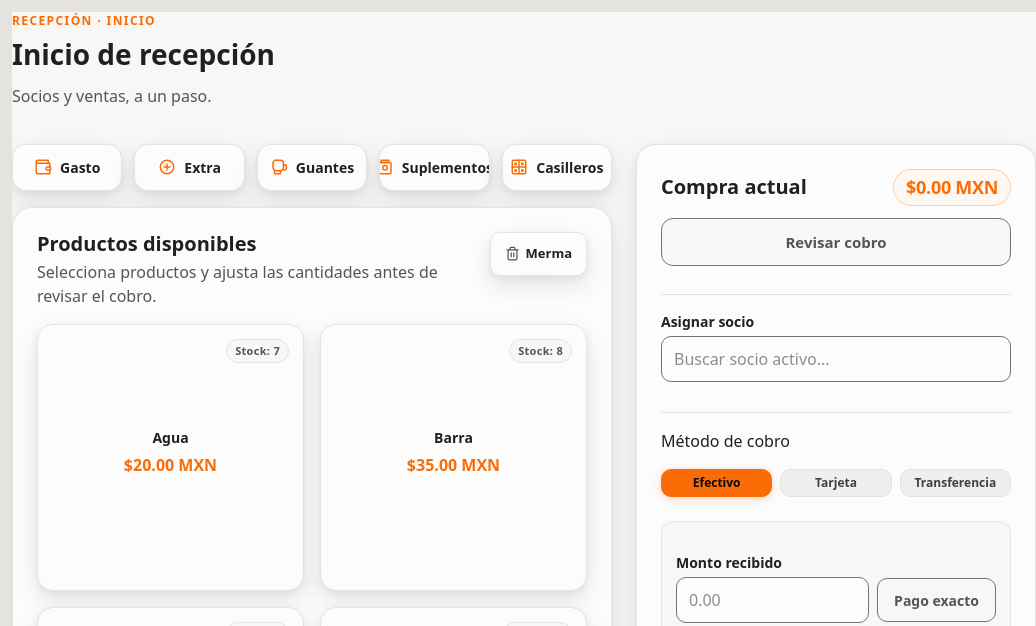
it: Reception Home overview › retains pending transfers and prevents duplicate recording on repeat confirmation
Click the button with aria-label "Seleccionar Agua" at (170, 453), box [52, 363, 289, 544]
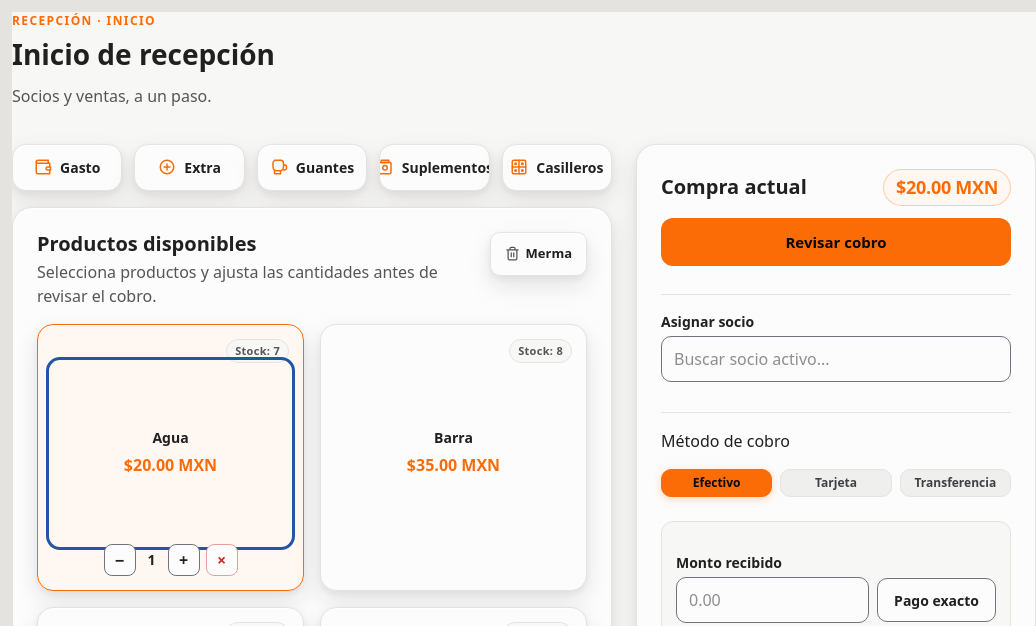
Click the radio button labelled "Transferencia" at (955, 483), box [900, 461, 1011, 505]
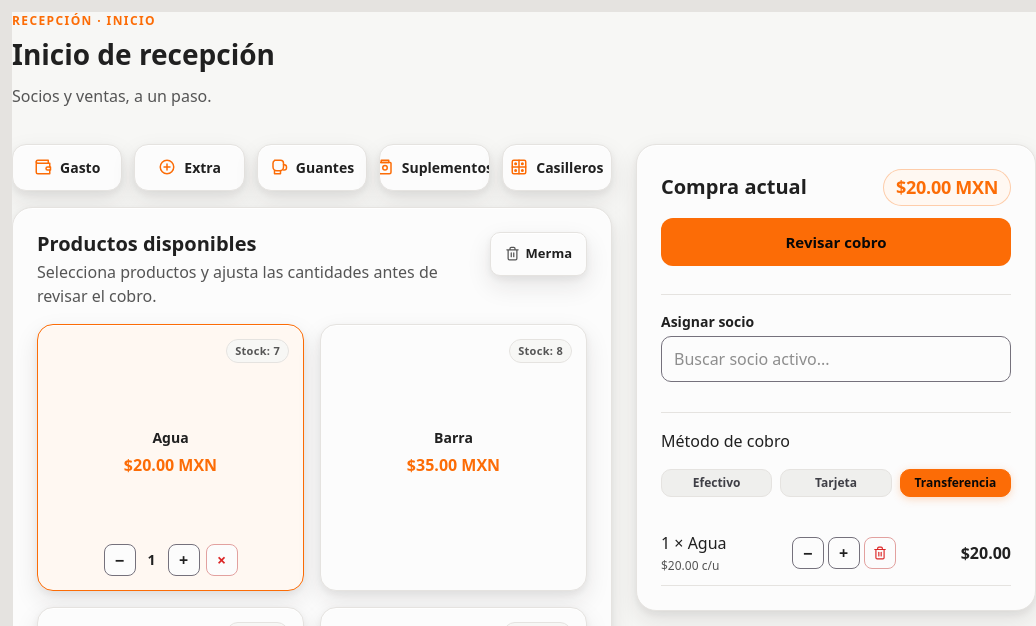
Click the button "Revisar cobro" at (836, 242), box [661, 218, 1011, 266]
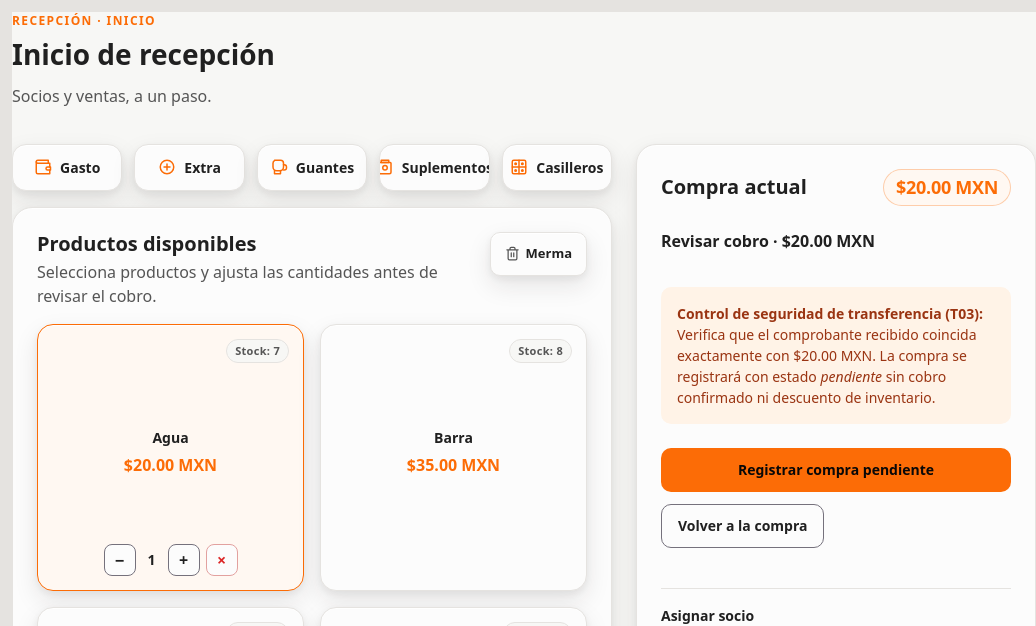
Click the button "Registrar compra pendiente" at (836, 470), box [661, 448, 1011, 492]
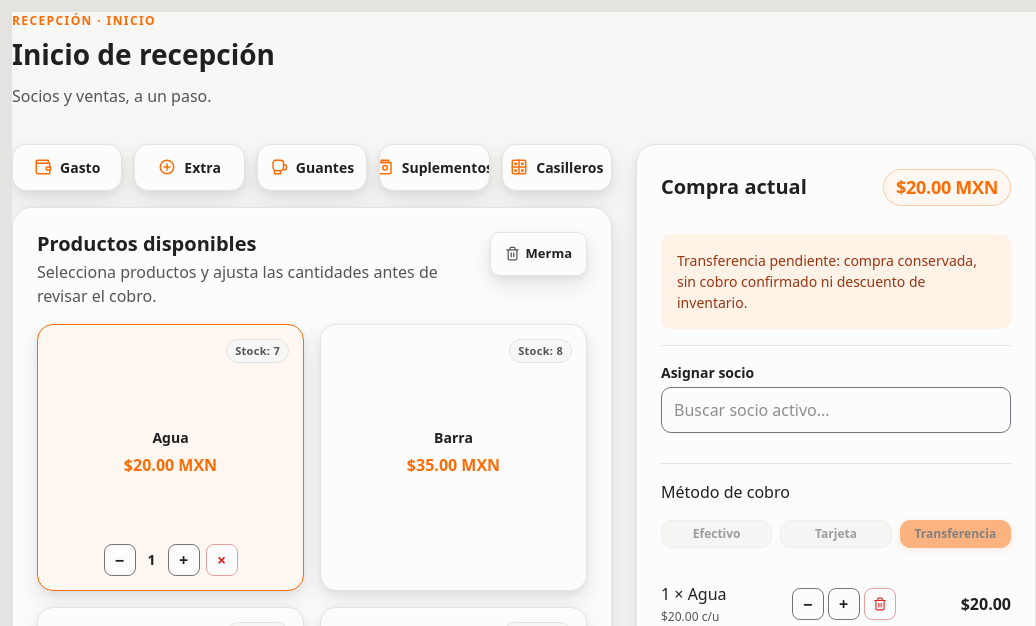
expect the text named "Total de compra" shows "$20.00": met, box [896, 175, 998, 199]
expect the message named "Resultado de compra" shows "Transferencia pendiente": met, box [677, 251, 977, 312]
expect the radio button labelled "Transferencia" is disabled: met, box [900, 512, 1011, 556]
